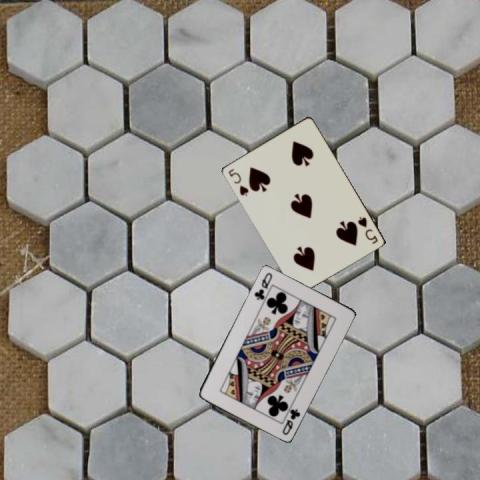5s: (225, 166, 250, 198), (354, 214, 378, 246)
Qc: (252, 270, 274, 302), (280, 405, 302, 436)
